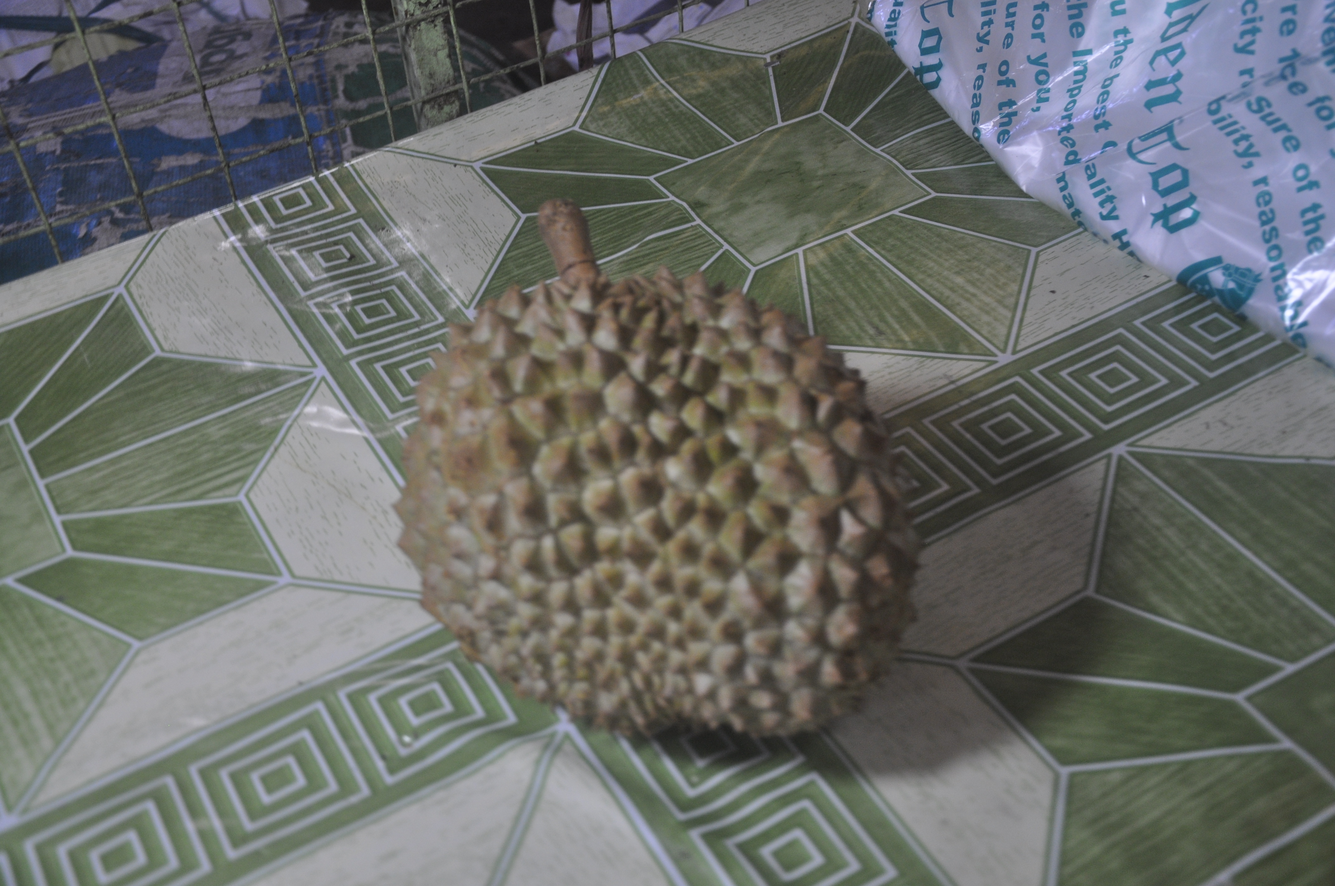mature: (397, 201, 917, 734)
